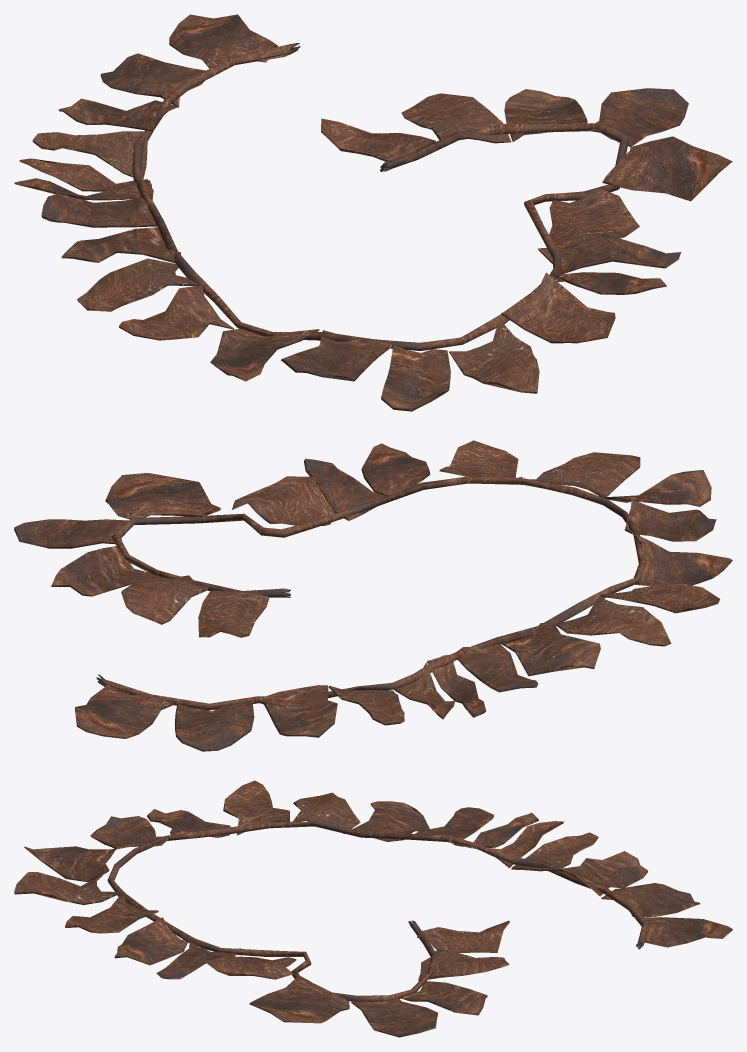
The model's file is lenta5.FBX.
The picture shows the model from 3 angles, top to bottom: view 1: azimuth 30°, elevation 25°; view 2: azimuth 150°, elevation 25°; view 3: azimuth 270°, elevation 25°; orthographic projection. The views are drawn at different scales.
Visible parts, largest first — view 1: Cylinder002, Object001; view 2: Cylinder002, Object001; view 3: Cylinder002, Object001.
Boxes of the visible parts, bbox=[...] form: Cylinder002: bbox=[14, 14, 732, 411]; Object001: bbox=[132, 43, 628, 350]; Cylinder002: bbox=[14, 440, 732, 751]; Object001: bbox=[96, 476, 646, 710]; Cylinder002: bbox=[14, 780, 732, 1037]; Object001: bbox=[107, 821, 647, 1001].
Bounding box in the file's own units: 191 × 10.03 × 232.
